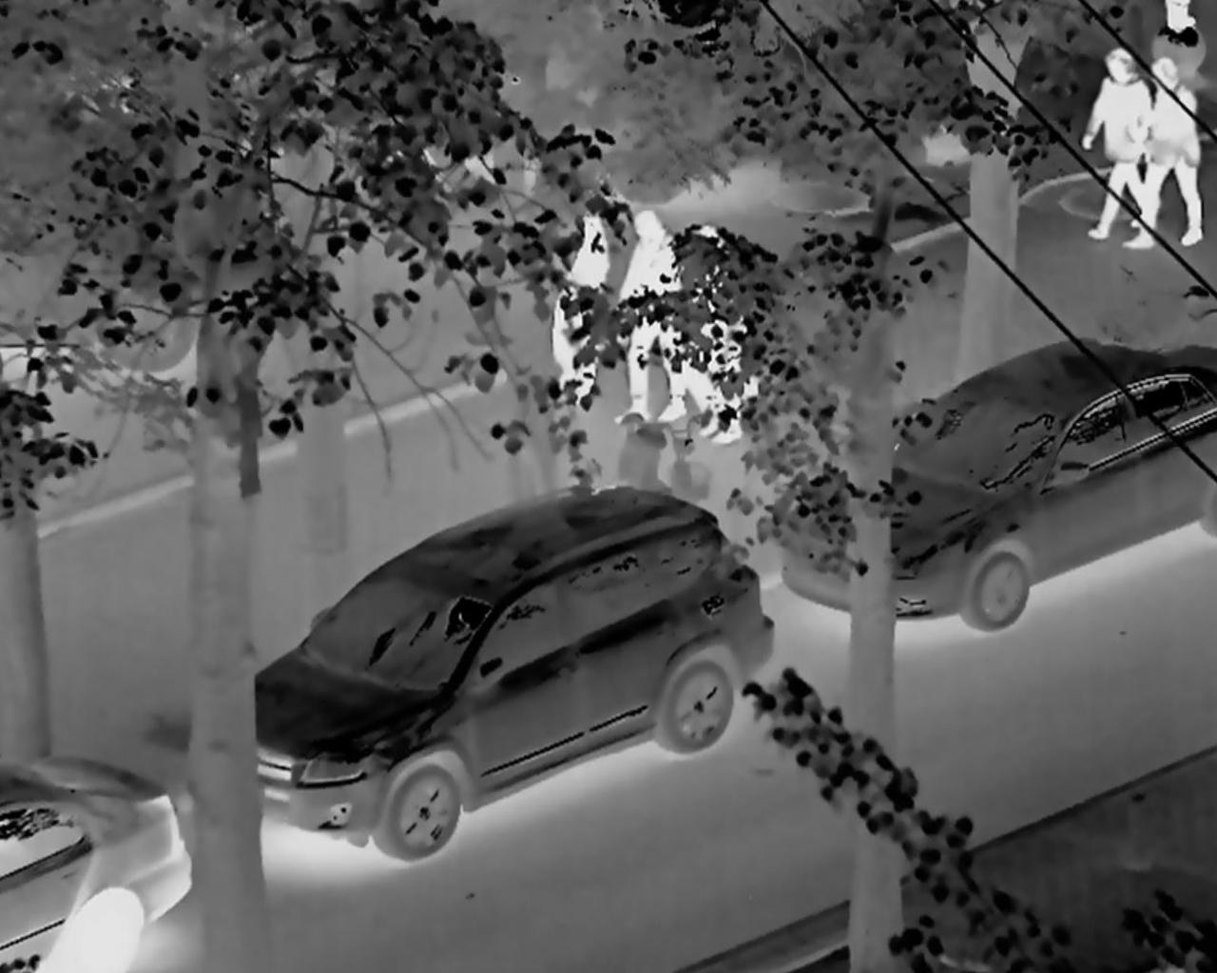person: (531, 179, 622, 410), (680, 227, 767, 466), (614, 196, 686, 440), (1138, 53, 1215, 279), (1087, 30, 1152, 269)
